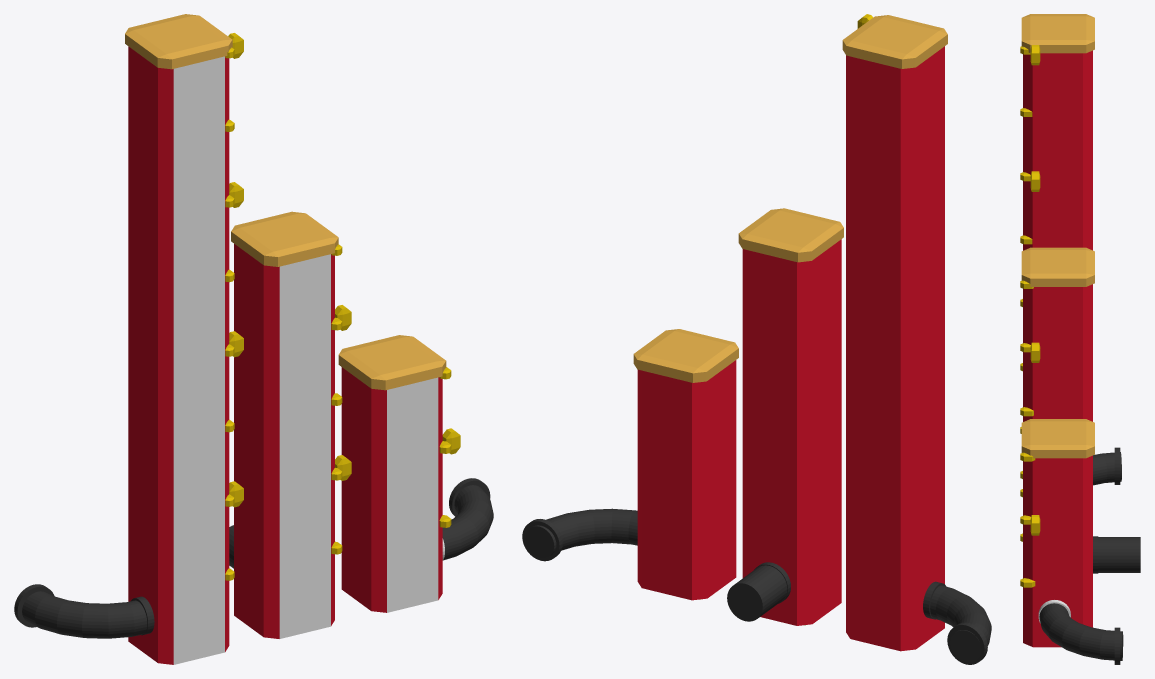
The model's file is AcidTubes.fbx.
The picture shows the model from 3 angles, left to right: view 1: azimuth 30°, elevation 25°; view 2: azimuth 150°, elevation 25°; view 3: azimuth 270°, elevation 25°; orthographic projection. The views are drawn at different scales.
Visible parts, largest first — view 1: Cube.072, Cube.063, Cube.062, Cylinder.002, Cube.075, Cube.074, Cube.073, Cylinder.009; view 2: Cube.072, Cube.063, Cube.062, Cube.074, Cube.075, Cube.073, Cylinder.009, Cylinder.002, Cylinder.012; view 3: Cube.072, Cube.062, Cube.063, Cube.074, Cube.075, Cube.073, Cylinder.009, Cylinder.012, Cylinder.002, Cylinder.014, Cylinder.015, Cylinder.013 (+4 smaller).
Part boxes in pixels (bbox=[...]): Cube.072: bbox=[128, 46, 229, 664]; Cube.063: bbox=[234, 244, 334, 638]; Cube.062: bbox=[341, 367, 442, 612]; Cylinder.002: bbox=[22, 591, 147, 638]; Cube.075: bbox=[338, 335, 446, 390]; Cube.074: bbox=[231, 211, 338, 266]; Cube.073: bbox=[125, 14, 232, 69]; Cylinder.009: bbox=[442, 485, 493, 560]; Cube.072: bbox=[846, 46, 944, 651]; Cube.063: bbox=[742, 239, 841, 625]; Cube.062: bbox=[637, 360, 736, 600]; Cube.074: bbox=[738, 208, 843, 262]; Cube.075: bbox=[633, 329, 738, 382]; Cube.073: bbox=[842, 15, 947, 68]; Cylinder.009: bbox=[525, 508, 637, 558]; Cylinder.002: bbox=[930, 585, 991, 661]; Cylinder.012: bbox=[727, 565, 787, 621]; Cube.072: bbox=[1023, 50, 1092, 250]; Cube.062: bbox=[1023, 455, 1092, 647]; Cube.063: bbox=[1023, 284, 1092, 421]; Cube.074: bbox=[1021, 247, 1094, 286]; Cube.075: bbox=[1021, 419, 1094, 458]; Cube.073: bbox=[1021, 14, 1094, 53]; Cylinder.009: bbox=[1039, 603, 1123, 660]; Cylinder.012: bbox=[1098, 537, 1140, 572]; Cylinder.002: bbox=[1093, 452, 1121, 485]; Cylinder.014: bbox=[1114, 447, 1120, 484]; Cylinder.015: bbox=[1114, 627, 1120, 664]; Cylinder.013: bbox=[1093, 536, 1098, 573].
Size of the model in its own units: 1325 by 1630 by 344.
